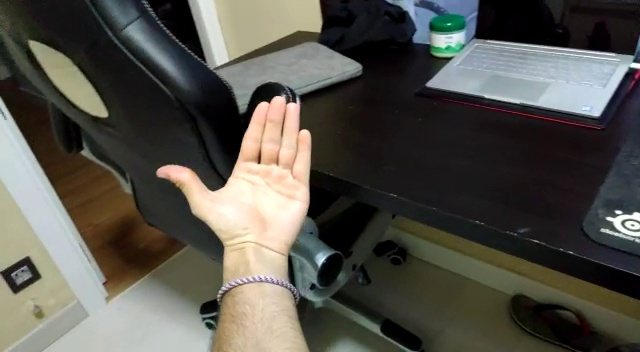Palm: (154, 93, 318, 262)
